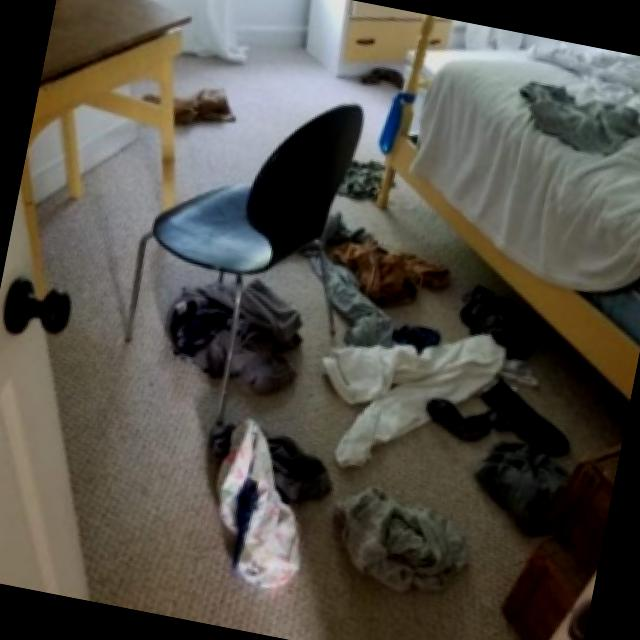mess: (80, 186, 579, 640), (347, 10, 640, 363), (424, 346, 635, 640)
